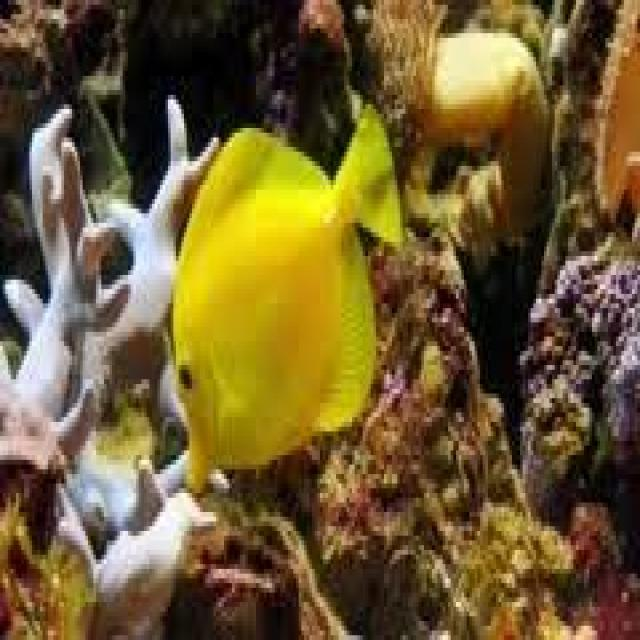YellowTang: (126, 79, 441, 545)
